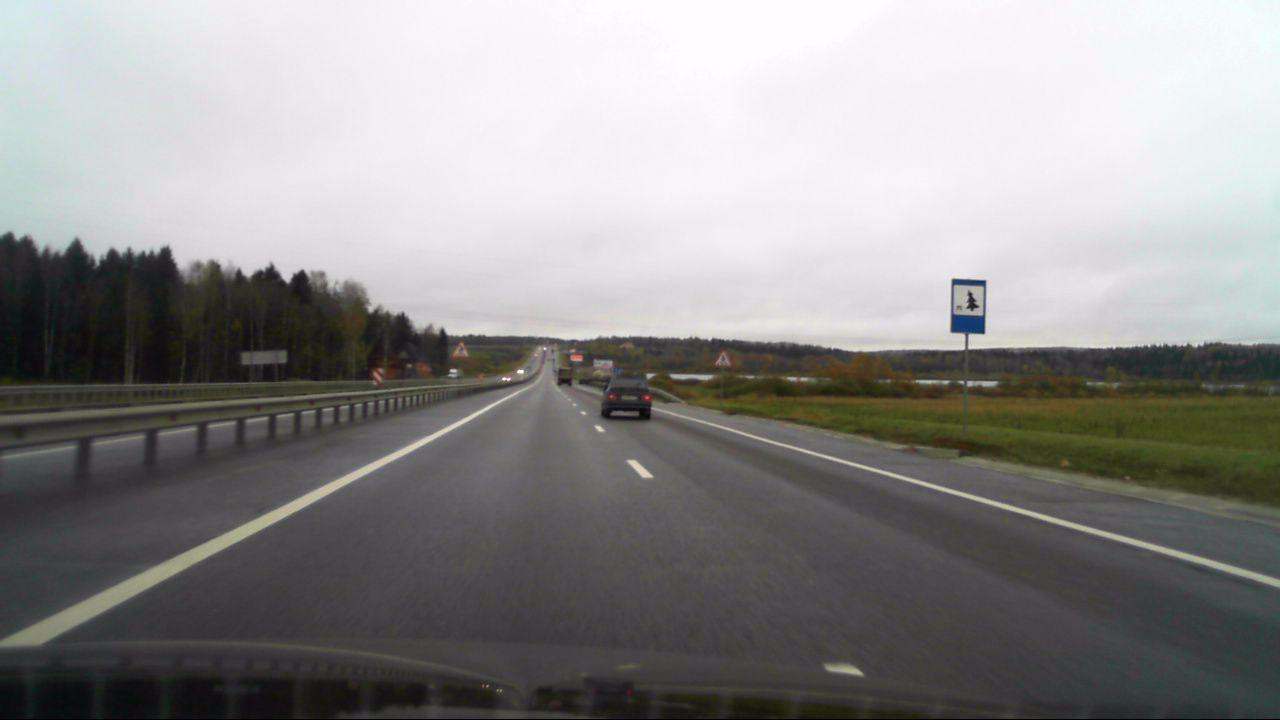7_11: (950, 278, 986, 334)
